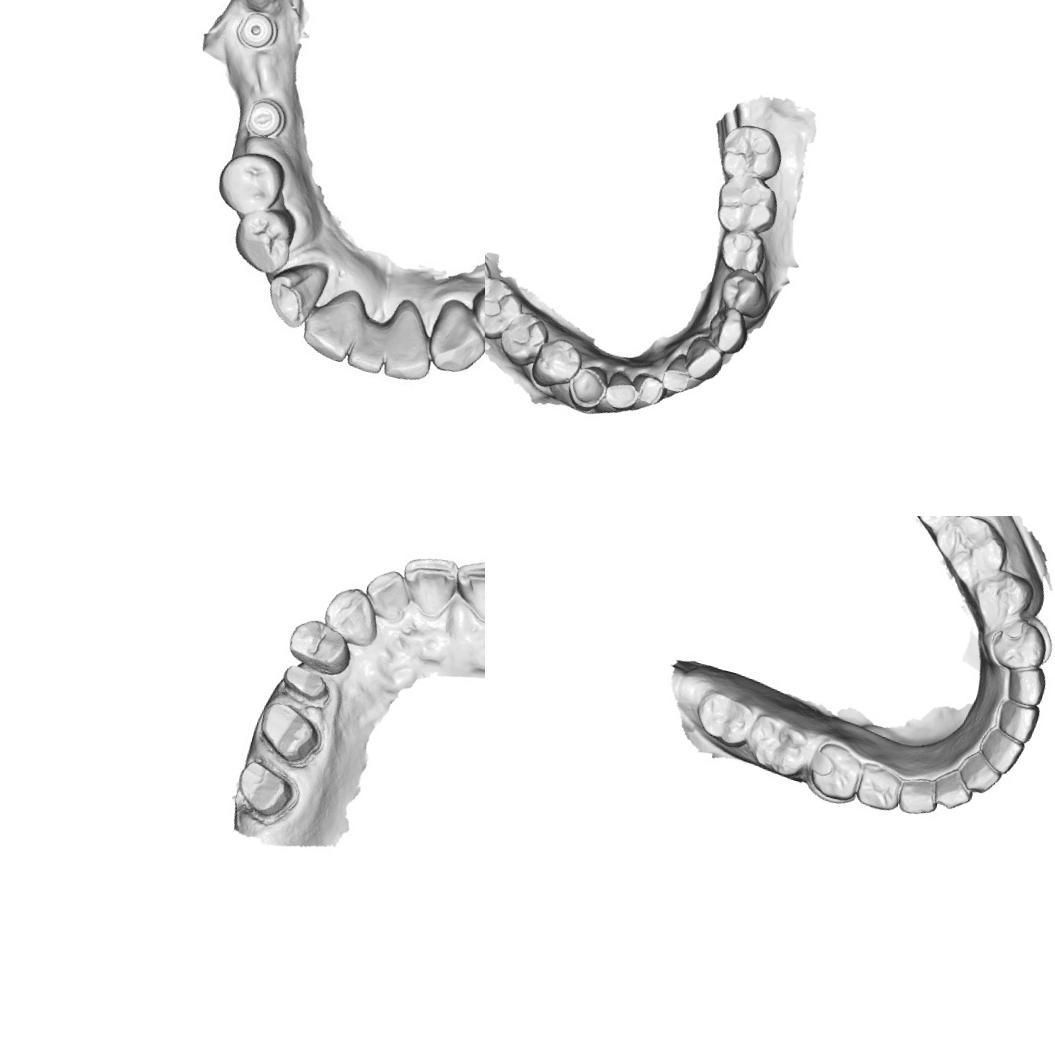canine: (257, 250, 333, 334), (416, 292, 485, 381), (317, 581, 387, 650), (562, 358, 618, 418), (700, 302, 752, 359), (1001, 658, 1055, 710), (894, 771, 943, 820)
crown: (224, 752, 307, 834), (248, 697, 332, 773), (274, 660, 337, 712)
implant: (230, 5, 280, 54)
implant_minus: (238, 91, 292, 141)
incisor: (294, 278, 368, 366), (377, 298, 443, 387), (393, 545, 464, 621), (357, 560, 417, 626), (341, 306, 396, 376), (972, 723, 1028, 778), (445, 553, 485, 626), (952, 744, 1006, 798), (928, 762, 978, 814), (679, 334, 728, 385), (992, 697, 1042, 745), (625, 367, 668, 418), (598, 367, 642, 414), (658, 350, 700, 398)
molar: (924, 516, 1015, 592), (740, 708, 818, 781), (712, 117, 790, 188), (708, 172, 784, 244), (690, 684, 760, 752), (485, 270, 530, 346), (890, 516, 974, 538)
premolar: (209, 143, 289, 223), (222, 199, 302, 279), (280, 612, 358, 679), (962, 564, 1036, 634), (803, 737, 869, 808), (984, 613, 1052, 676), (492, 304, 551, 372), (525, 330, 586, 394), (713, 262, 774, 322), (712, 222, 772, 278), (852, 759, 906, 814), (462, 271, 485, 350)
